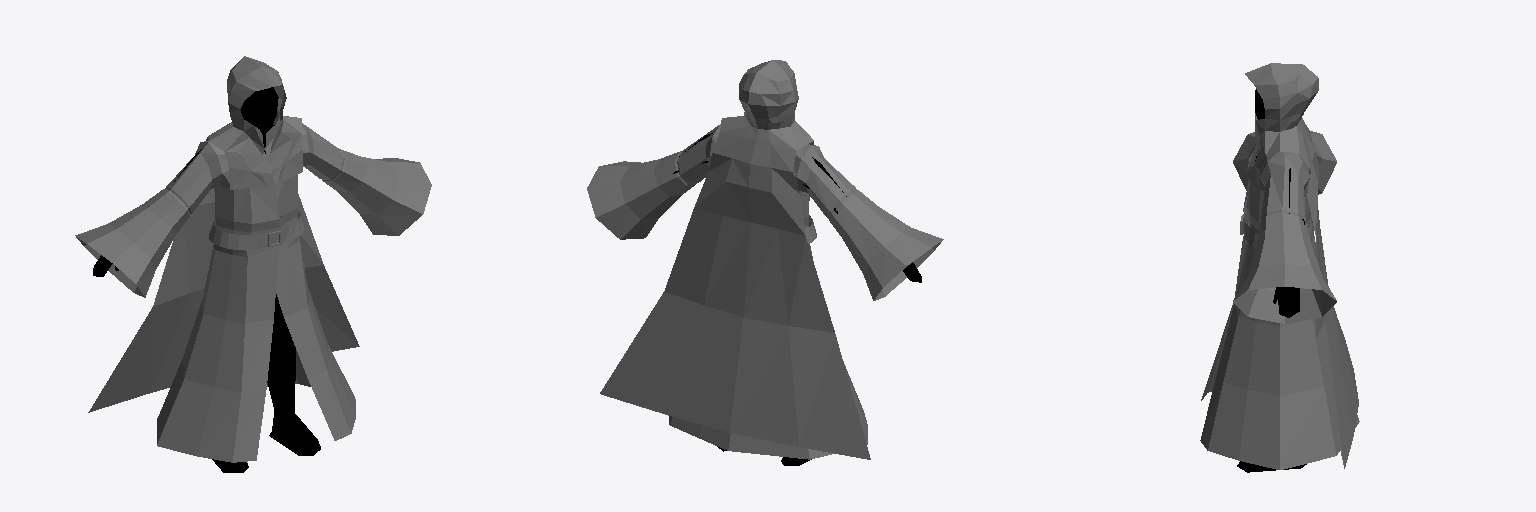
Rendered from BrotherFrancis.obj.
3 views of the same model, side by side, from view 1: azimuth 30°, elevation 25°; view 2: azimuth 150°, elevation 25°; view 3: azimuth 270°, elevation 25° (orthographic).
Visible parts, largest first — view 1: pCylinder5, pCylinder3, HumanoidBase_NotOverlapping, HumanoidBase_NotOverlapping1, pCylinder4; view 2: pCylinder3, pCylinder5; view 3: pCylinder5, pCylinder3, HumanoidBase_NotOverlapping1.
Boxes of the visible parts, x1=… form: pCylinder5: x1=75, y1=108, x2=431, y2=462; pCylinder3: x1=88, y1=56, x2=359, y2=412; HumanoidBase_NotOverlapping: x1=212, y1=320, x2=320, y2=472; HumanoidBase_NotOverlapping1: x1=93, y1=87, x2=284, y2=321; pCylinder4: x1=209, y1=210, x2=304, y2=249; pCylinder3: x1=600, y1=60, x2=870, y2=459; pCylinder5: x1=587, y1=112, x2=943, y2=459; pCylinder5: x1=1200, y1=114, x2=1359, y2=469; pCylinder3: x1=1245, y1=63, x2=1358, y2=468; HumanoidBase_NotOverlapping1: x1=1255, y1=89, x2=1304, y2=317.
Size of the model in its own units: 184 by 203 by 76.2.